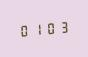one: (31, 21, 43, 36)
three: (57, 18, 69, 34)
zero: (18, 22, 30, 38), (44, 19, 56, 35)
